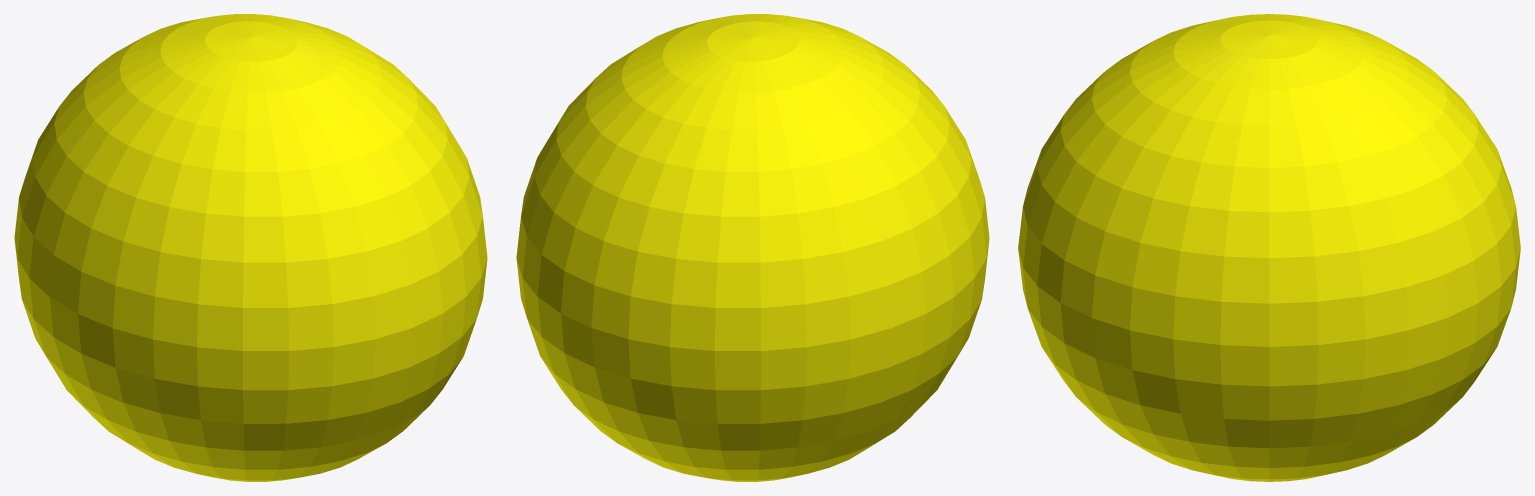
Rendered from Bullet.obj.
3 views of the same model, side by side, from view 1: azimuth 30°, elevation 25°; view 2: azimuth 150°, elevation 25°; view 3: azimuth 270°, elevation 25° (orthographic).
Parts seen in each view (by area): view 1: 球; view 2: 球; view 3: 球.
Part boxes in pixels (x1,y1,x2,y2): 球: [14, 14, 487, 481]; 球: [516, 14, 989, 481]; 球: [1018, 14, 1520, 481].
Bounding box in the file's own units: 0.8598 × 0.8598 × 0.9228.
1 material, 1 textured.
